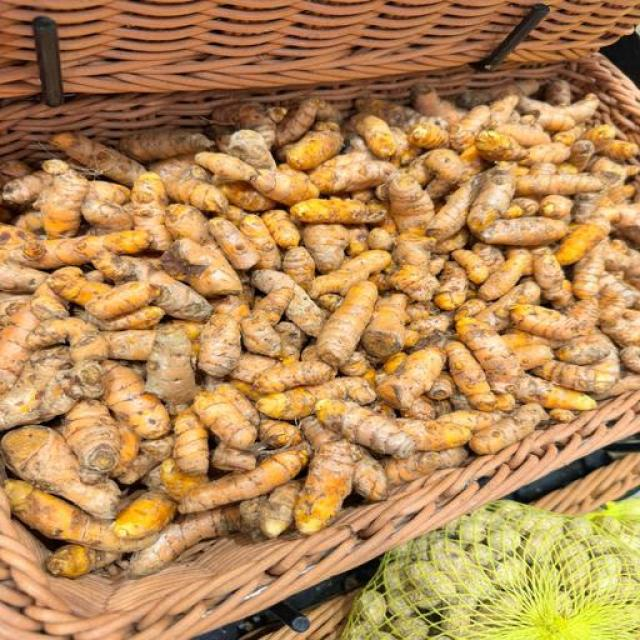organic: (0, 392, 639, 639), (0, 0, 527, 97), (343, 502, 639, 639), (0, 85, 237, 159), (535, 454, 639, 514), (587, 499, 639, 553)
